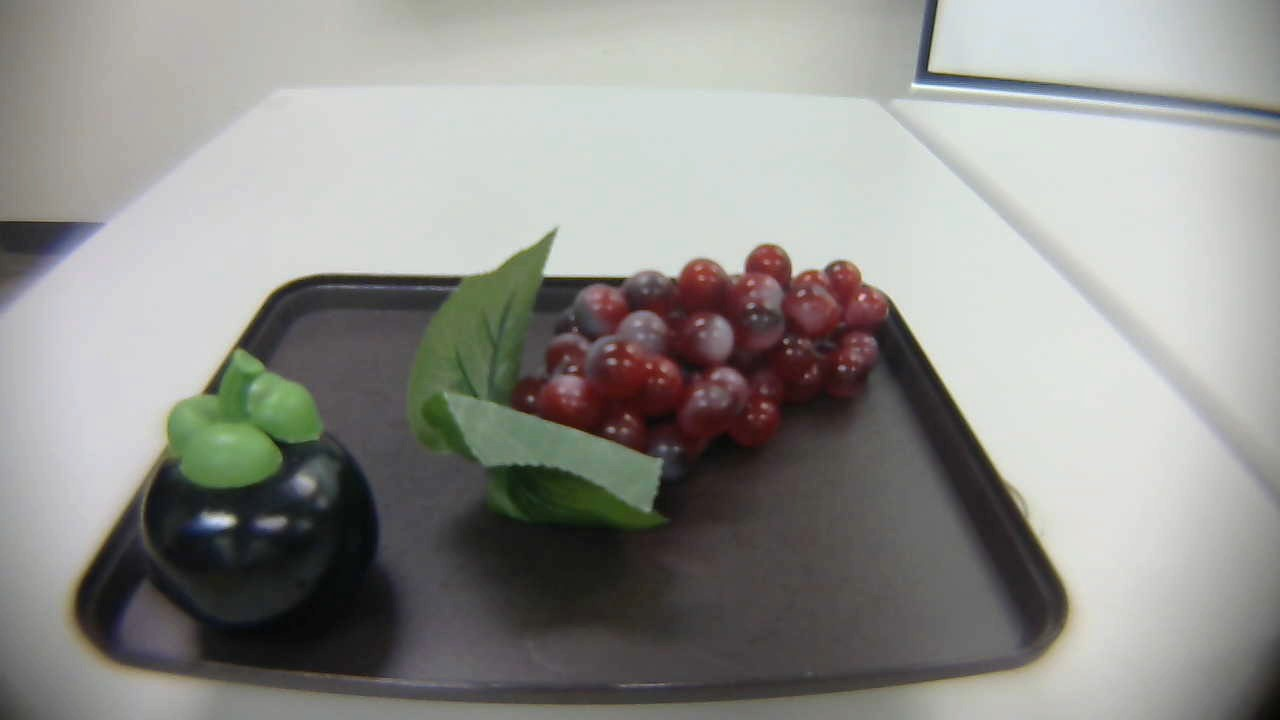grape: (412, 219, 901, 535)
mangosteen: (132, 345, 378, 638)
